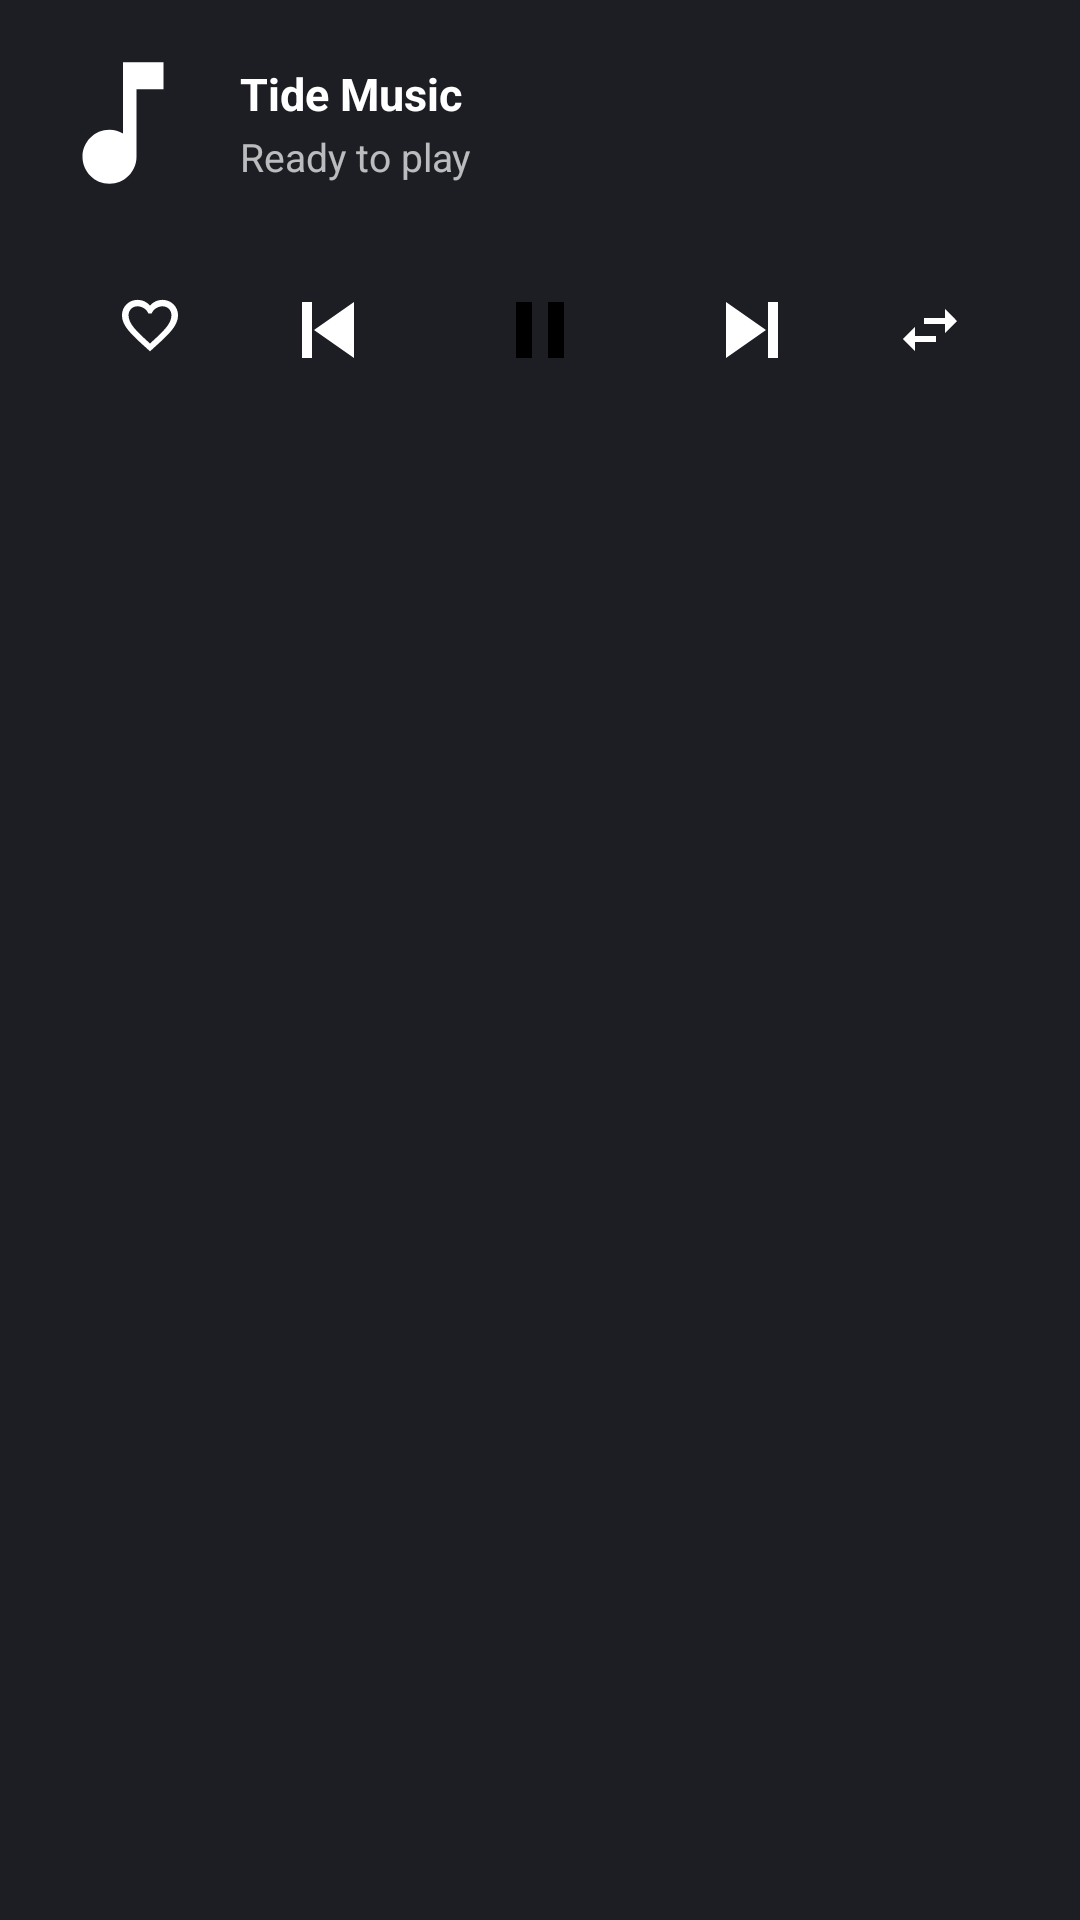

Point at icon controls on the screen. Image size 1080*1920, points as (x=x, y=y).
Album Art: (x=123, y=123)
Favorite: (x=150, y=325)
Next: (x=752, y=330)
Play/Pause: (x=540, y=330)
Previous: (x=328, y=330)
